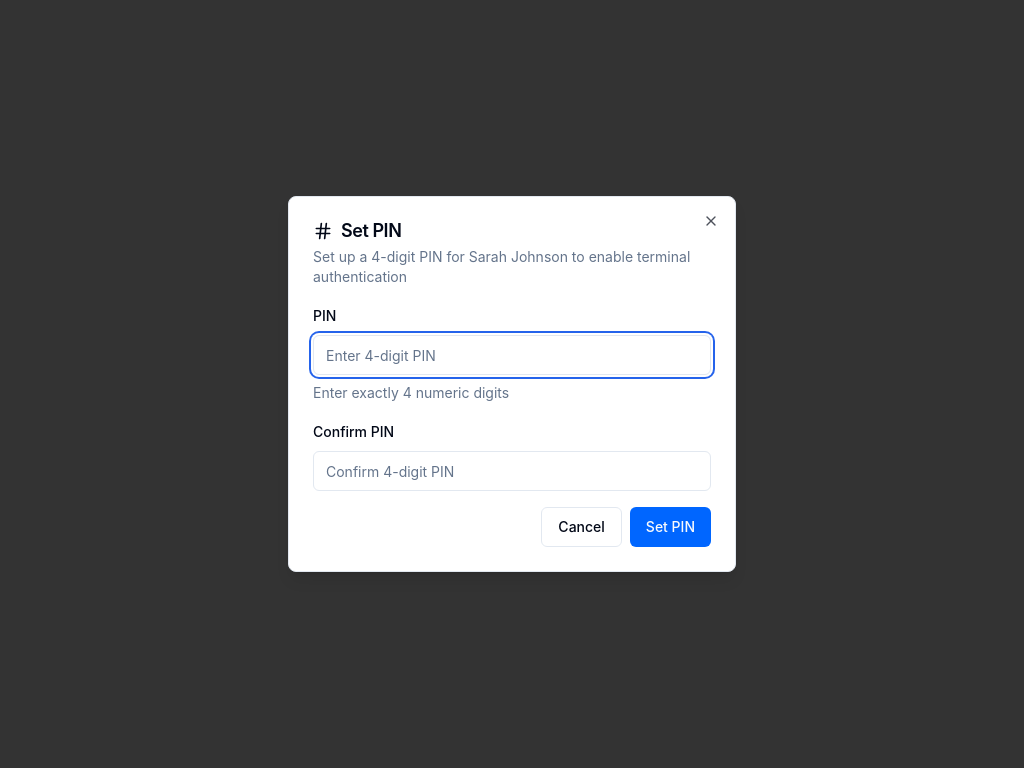
SetEmployeePINModal Component › PIN Confirmation Validation › UPIN-COMP-016: should show validation error when PINs do not match
User enters mismatched PINs and submits
Type "1234" into the password field with test id "pin-input" at (512,355), box [313,335,711,375]
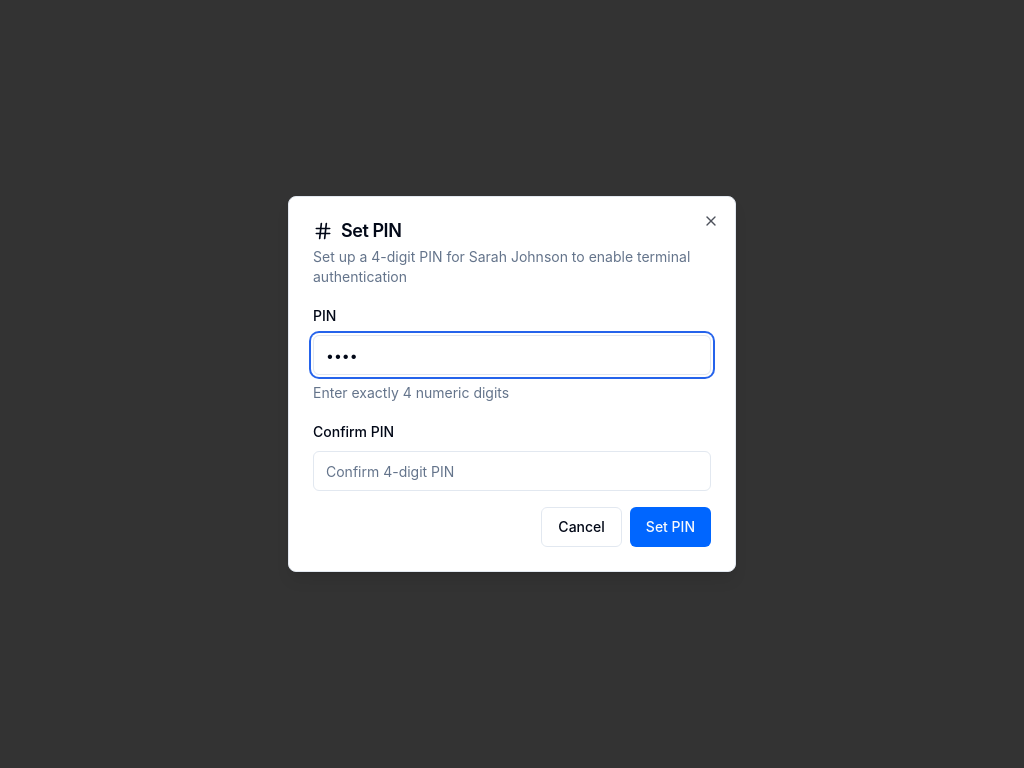
Type "5678" into the password field with test id "confirm-pin-input" at (512,471), box [313,451,711,491]
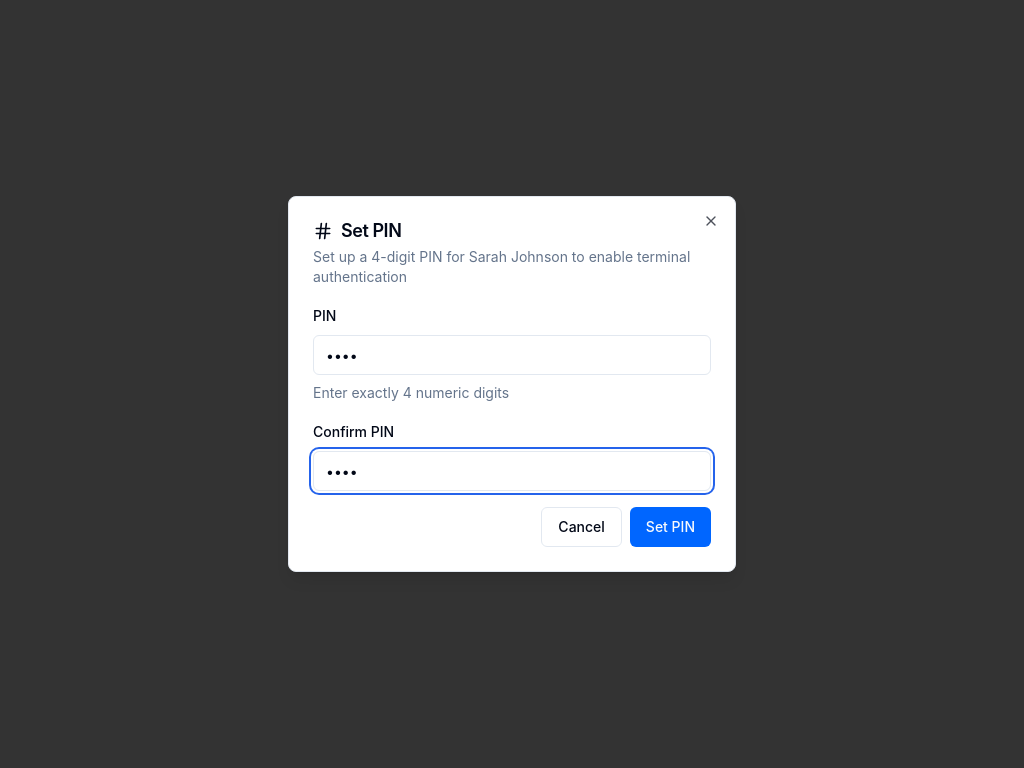
Click the button with test id "save-pin-button" at (670,527), box [630,507,711,547]
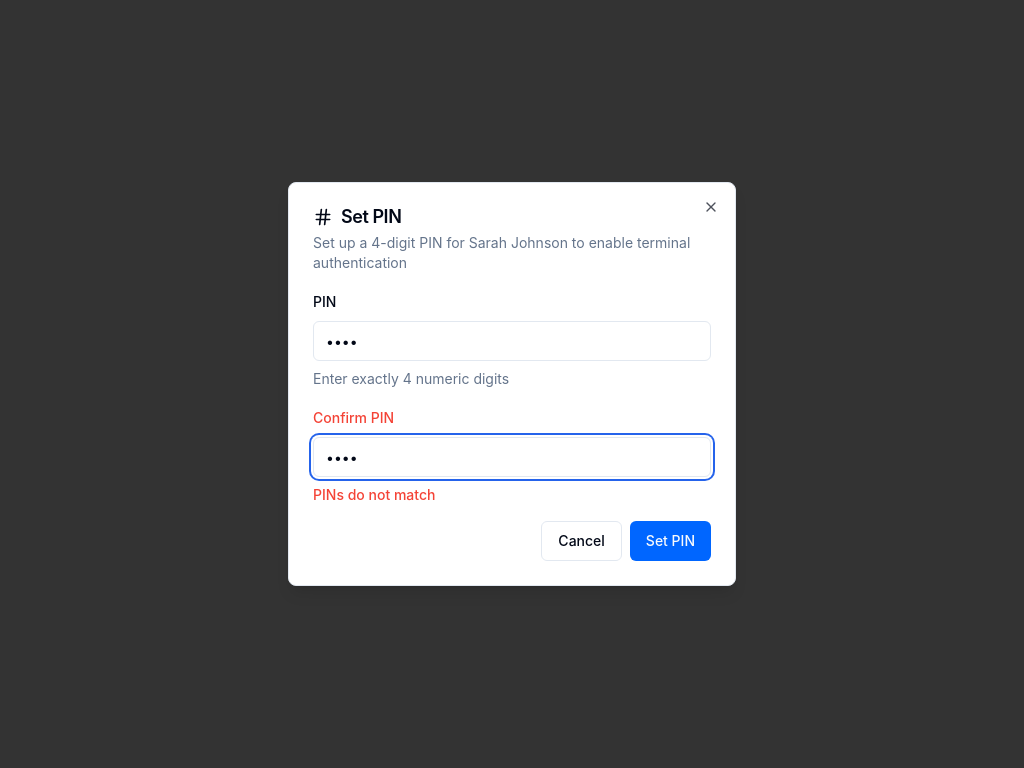
Expected: the text "PINs do not match" is shown, [313,486,435,503]
